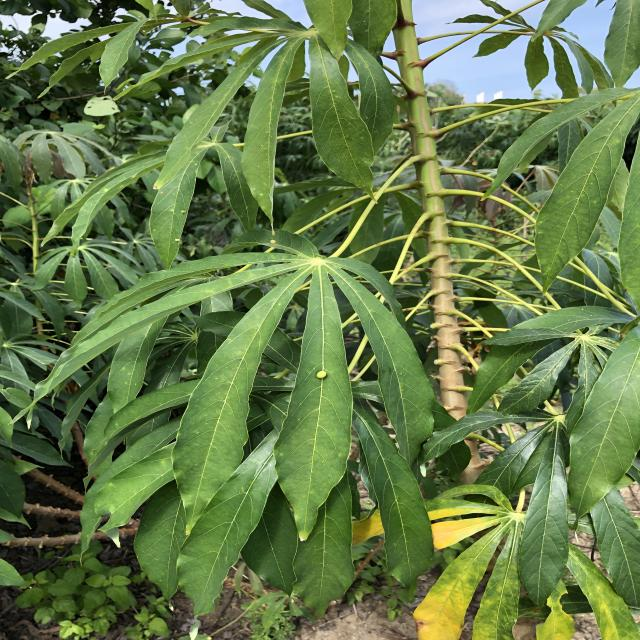Mosca: (308, 365, 335, 389)
